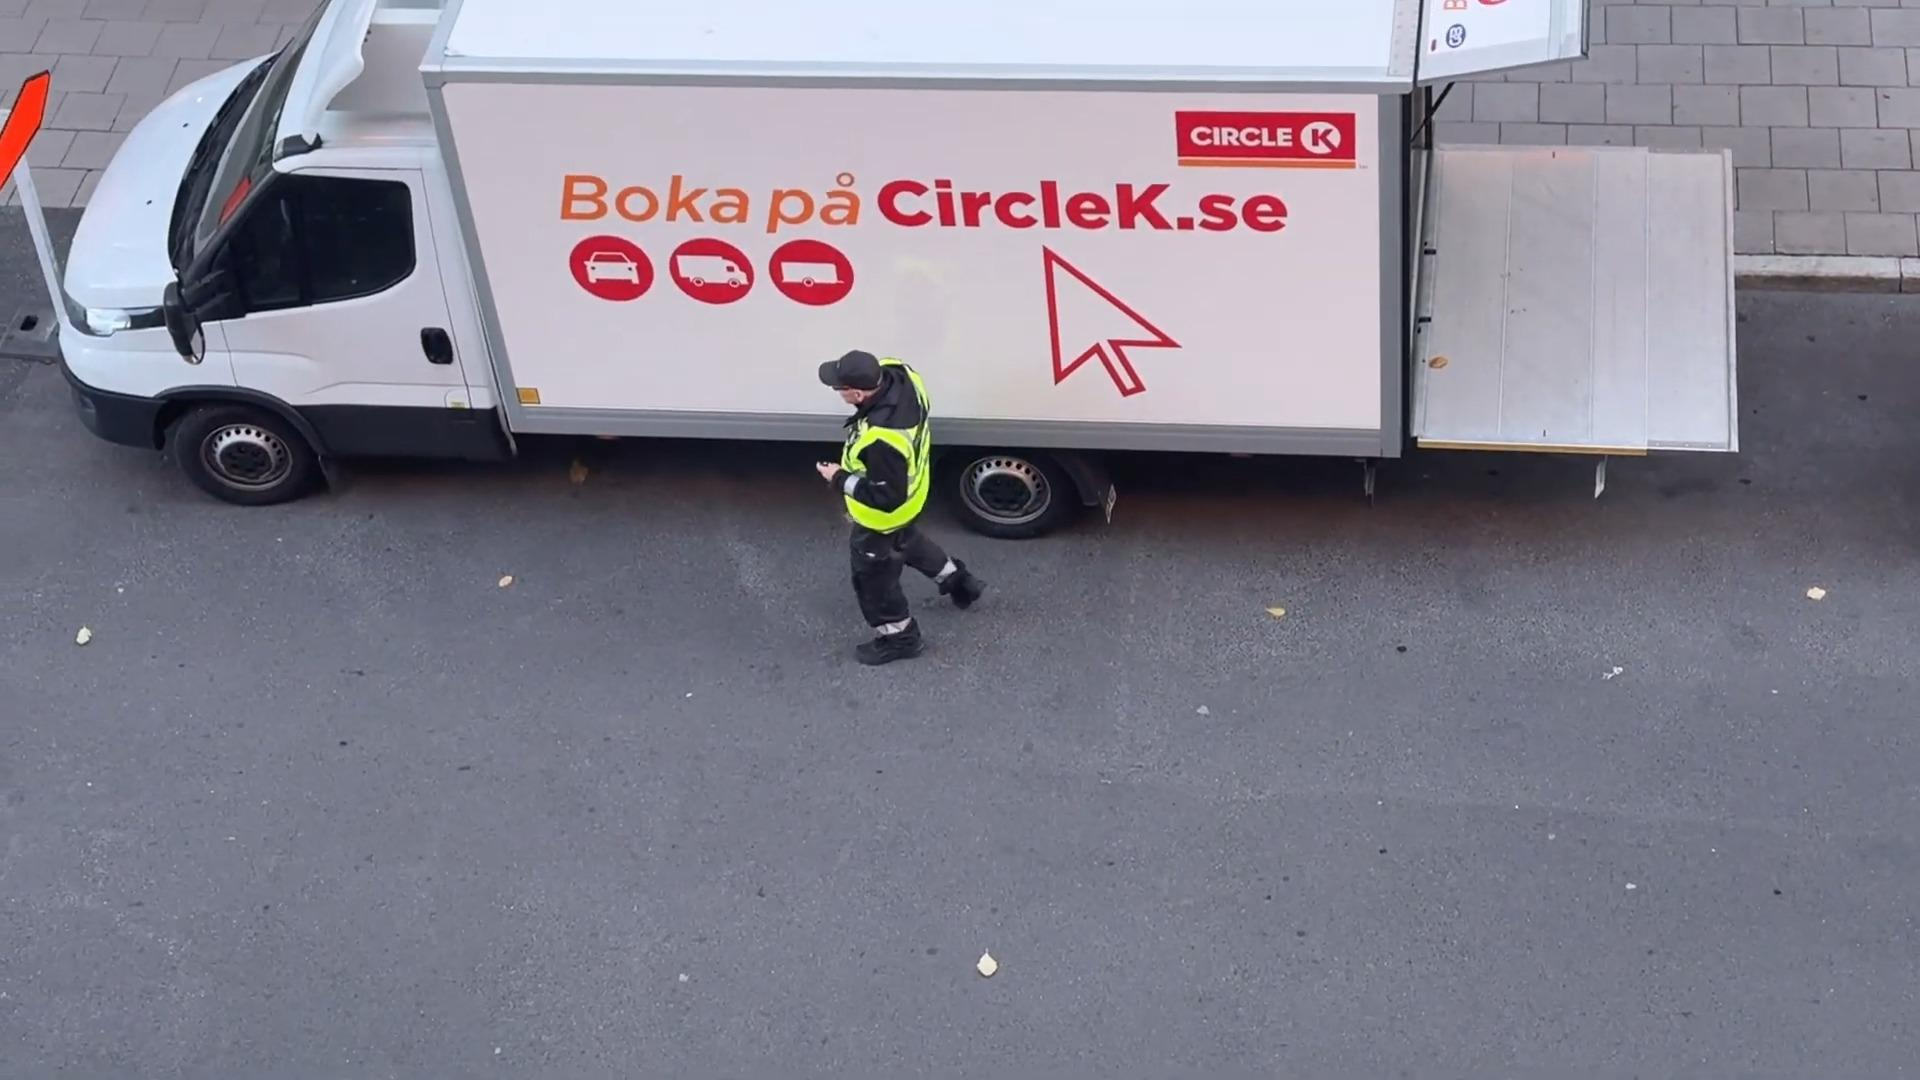parking-attendant: (818, 351, 984, 665)
